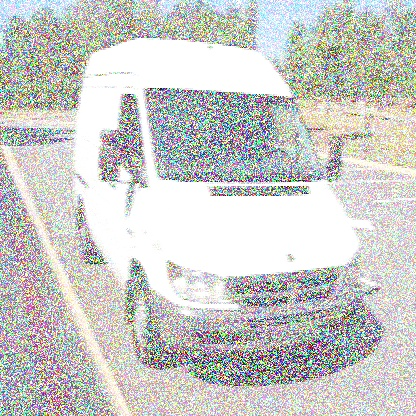Vehicle: (67, 24, 371, 374)
